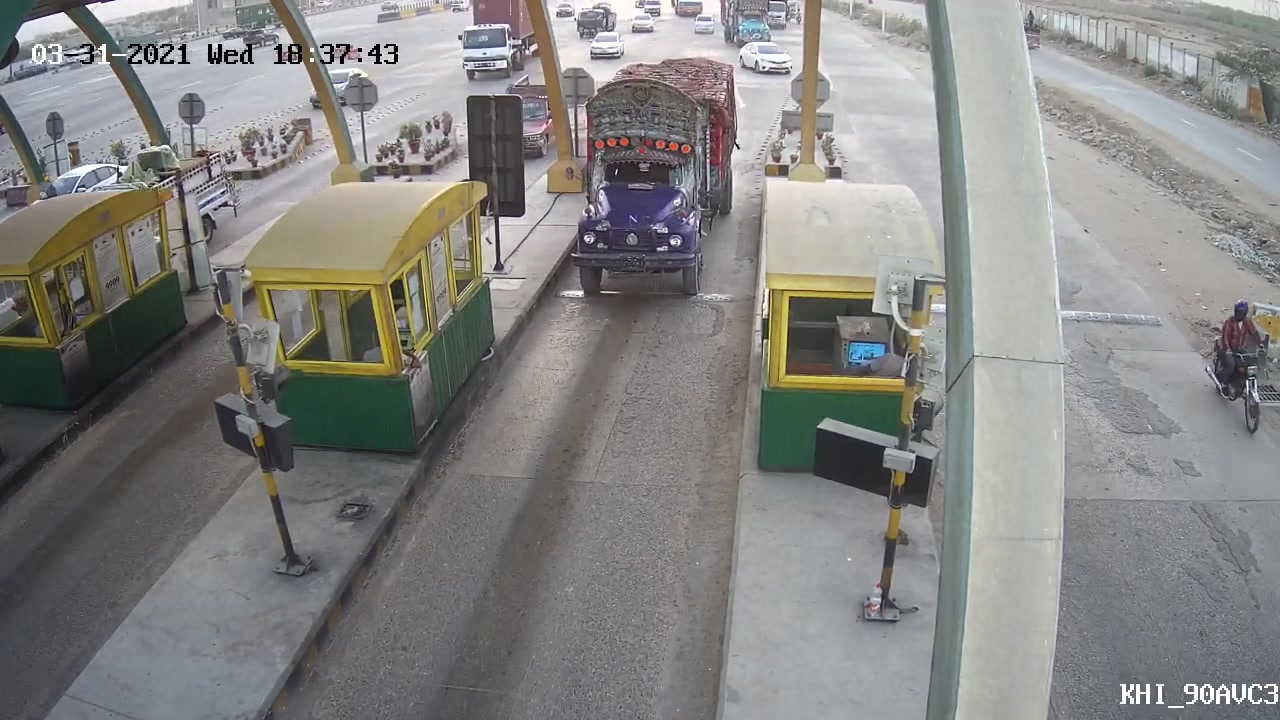F5: (554, 49, 744, 305)
